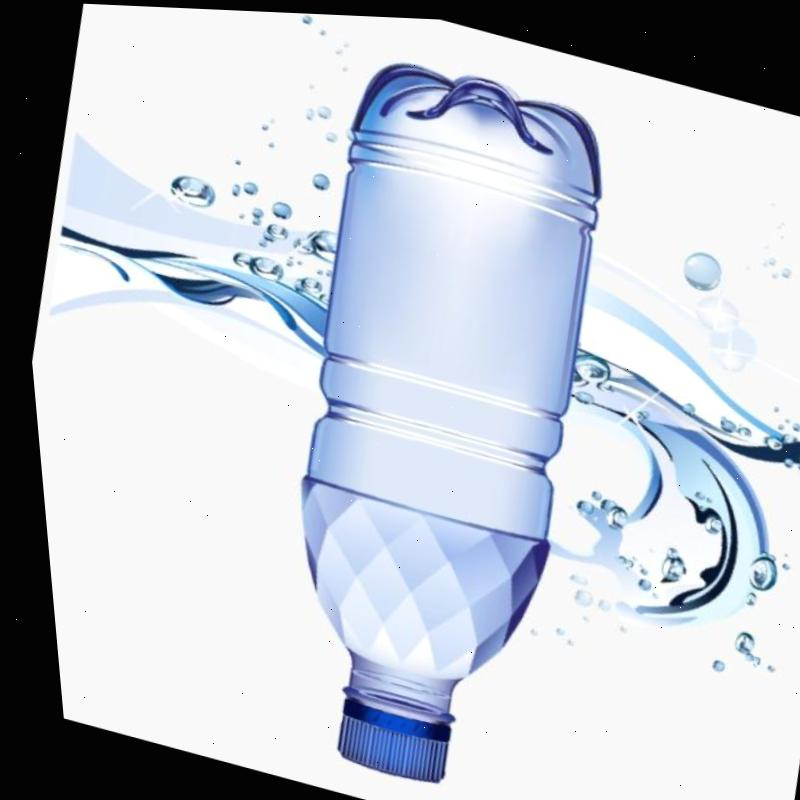botella: (202, 39, 659, 800)
